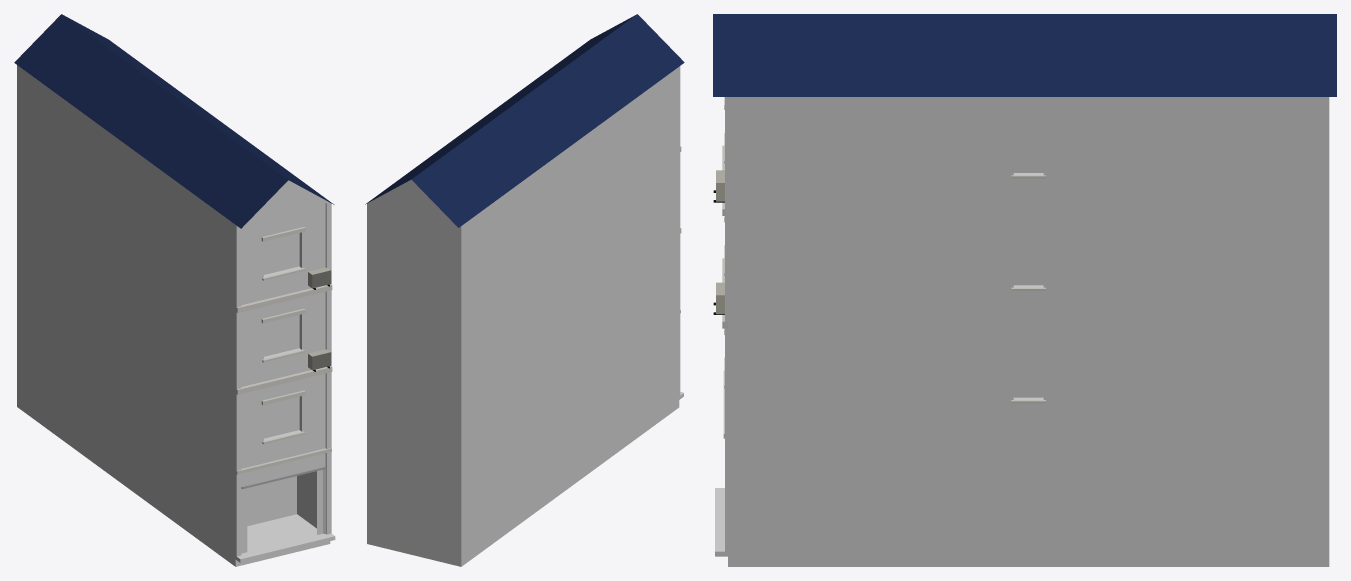
The picture shows the model from 3 angles, left to right: view 1: azimuth 30°, elevation 25°; view 2: azimuth 150°, elevation 25°; view 3: azimuth 270°, elevation 25°; orthographic projection. The views are drawn at different scales.
Parts seen in each view (by area): view 1: TH_D16_R_17_LOD0; view 2: TH_D16_R_17_LOD0; view 3: TH_D16_R_17_LOD0.
Boxes of the visible parts, <box> form: TH_D16_R_17_LOD0: <box>14,14,335,566</box>; TH_D16_R_17_LOD0: <box>365,14,684,566</box>; TH_D16_R_17_LOD0: <box>713,14,1336,566</box>.
Size of what is drawn, in the model's own units: 4.08 by 15.3 by 16.6.
